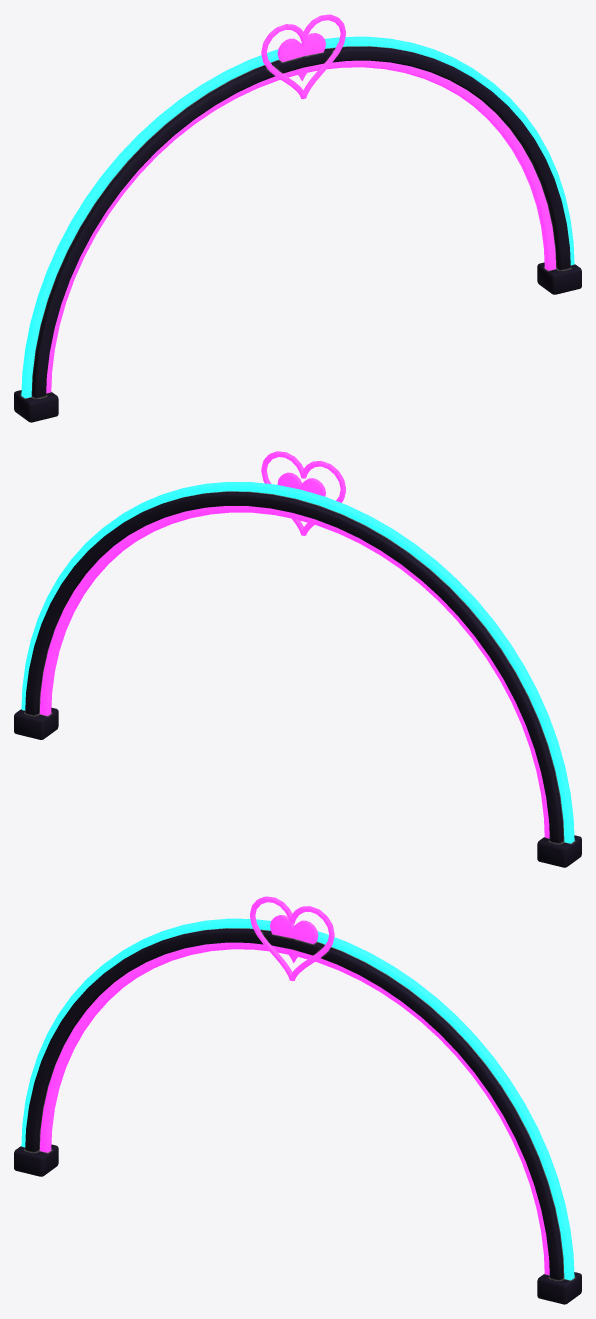
Rendered from rn_neon_arch.glb.
3 renders of one model, top to bottom at view 1: azimuth 30°, elevation 25°; view 2: azimuth 150°, elevation 25°; view 3: azimuth 330°, elevation 25°, orthographic.
Visible parts, largest first — view 1: rn_neon_arch; view 2: rn_neon_arch; view 3: rn_neon_arch.
Boxes of the visible parts, box(x1,y1,x2,y2) form: rn_neon_arch: box(14, 14, 581, 422); rn_neon_arch: box(14, 451, 581, 867); rn_neon_arch: box(14, 896, 581, 1304).
Size of the model in its own units: 16.7 by 9.66 by 0.9.
Materials: 3 (3 with a texture image).
